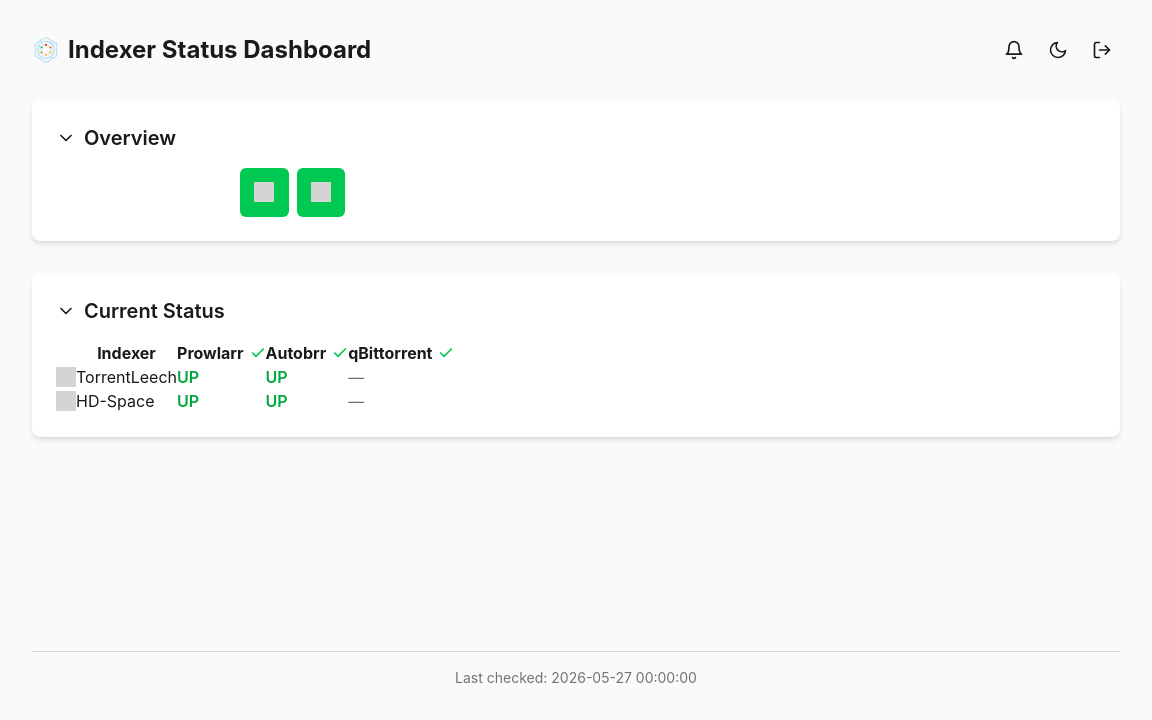
Scenario: DashboardPage › shows error message when test notification fails
The width and height of the screenshot is (1152, 720).
Click the button named "Test notifications": [1014, 50] box [996,32,1032,68]
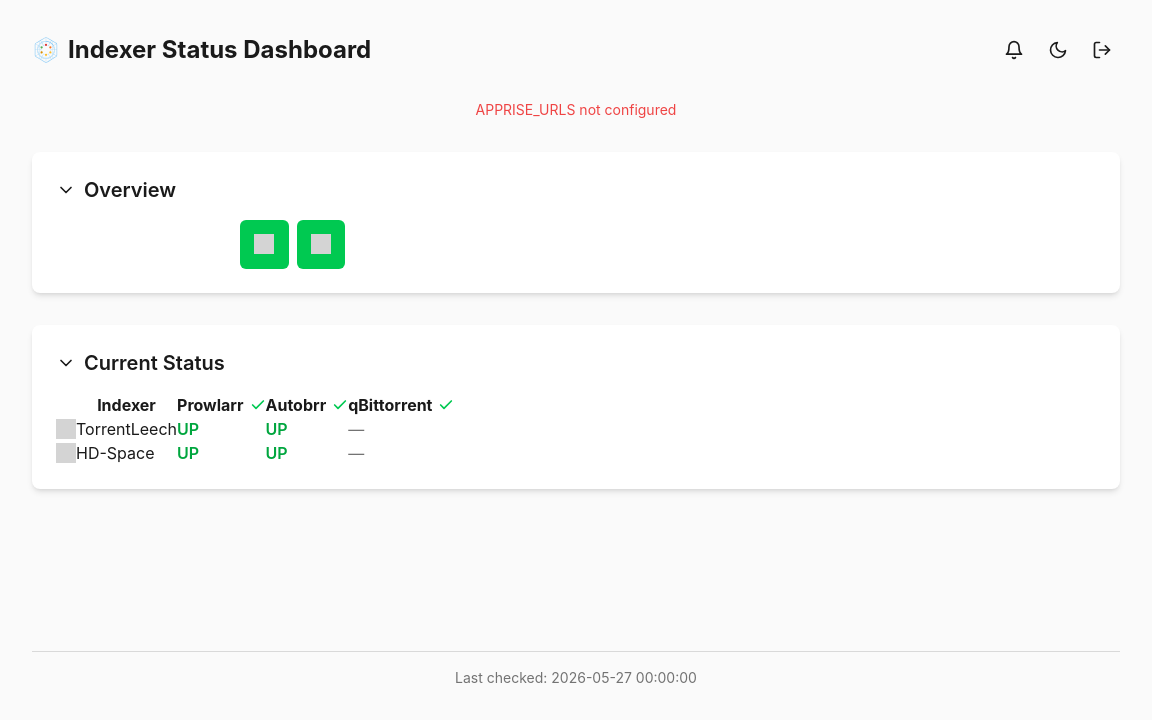
Expected: the text "APPRISE_URLS not configured" is shown, [476,101,676,118]
